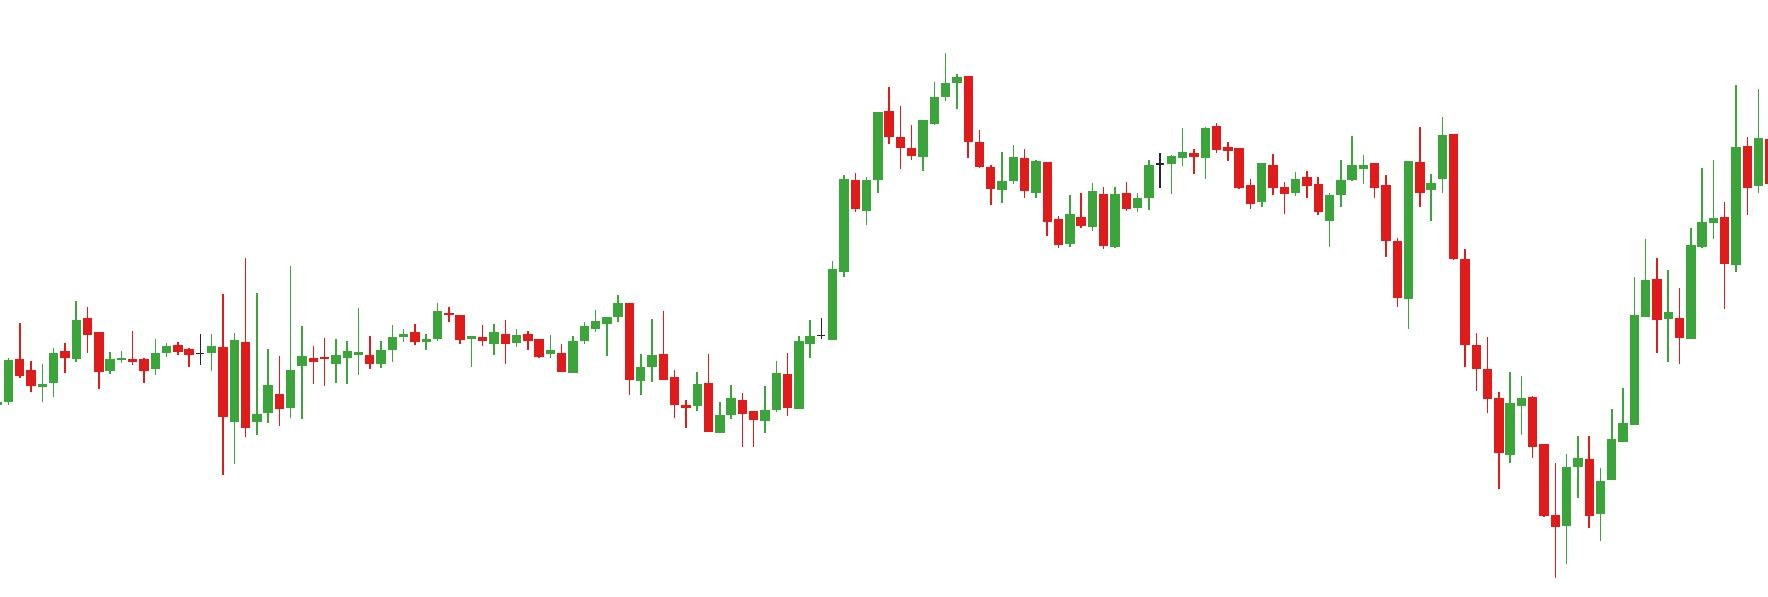buy: (1492, 418, 1573, 578)
sell: (1345, 126, 1427, 244)
